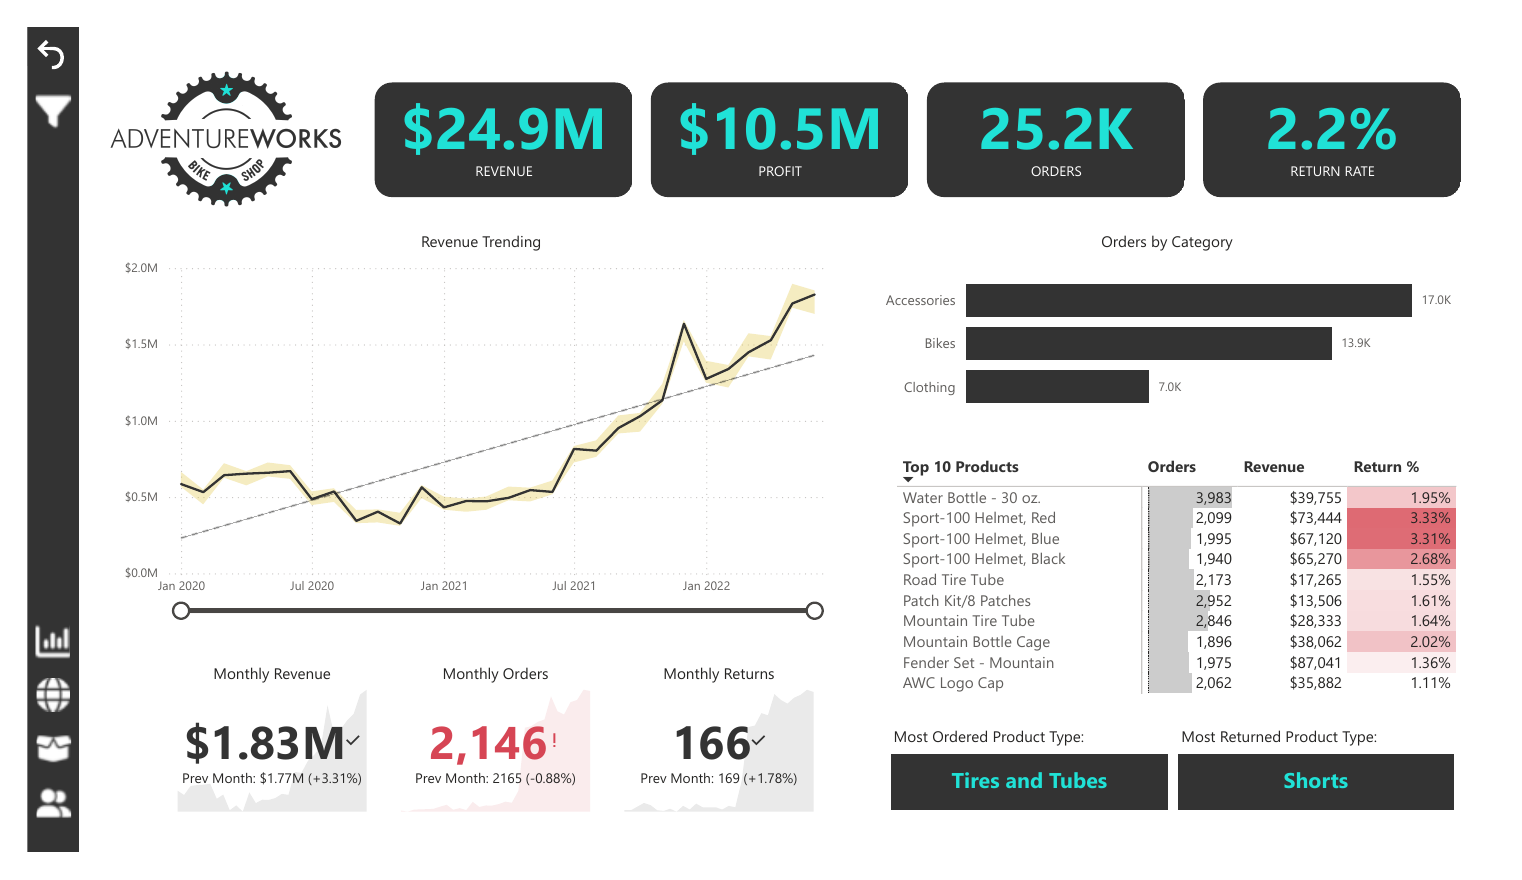

The dashboard page shown, as its layout file describes it:
{"tool":"powerbi","page":{"name":"Exec Dashboard","canvas":[1280,720],"ordinal":0},"visuals":[{"type":"card","fields":{"Values":["Measure Table.Total Revenue"]},"box":[288.1,17.8,256.2,150],"z":0,"group":"g2"},{"type":"image","title":"AW Logo","box":[45.6,26.6,256.2,141.2],"z":0},{"type":"shape","box":[303.1,47.8,225,100],"z":0,"group":"g1"},{"type":"actionButton","box":[2.5,516.7,45.6,37.8],"z":0,"group":"g3"},{"type":"card","fields":{"Values":["Measure Table.Total Profit"]},"box":[528.9,17.8,256.2,150],"z":1000,"group":"g2"},{"type":"shape","box":[543.9,47.8,225,100],"z":1000,"group":"g1"},{"type":"actionButton","box":[3.3,563.4,45.6,37.8],"z":1000,"group":"g3"},{"type":"card","fields":{"Values":["Measure Table.Total Orders"]},"box":[769.8,17.8,256.2,150],"z":2000,"group":"g2"},{"type":"group","id":"g1","title":"KPI Backgrounds","box":[303.1,47.8,947.5,100],"z":2000},{"type":"shape","box":[784.8,47.8,225,100],"z":2000,"group":"g1"},{"type":"actionButton","box":[3.3,611.1,45.6,37.8],"z":2000,"group":"g3"},{"type":"shape","title":"Left Nav Background","box":[0,0,45,720],"z":3000},{"type":"card","fields":{"Values":["Measure Table.Return Rate"]},"box":[1010.6,17.8,256.2,150],"z":3000,"group":"g2"},{"type":"shape","box":[1025.6,47.8,225,100],"z":3000,"group":"g1"},{"type":"actionButton","box":[3.3,657.8,45.6,37.8],"z":3000,"group":"g3"},{"type":"group","id":"g2","title":"KPI Values","box":[288.1,17.8,978.8,150],"z":4000},{"type":"lineChart","title":"Revenue Trending","fields":{"Y":["Measure Table.Total Revenue"],"Category":["Calendar Lookup.Start of Month"]},"box":[78.9,177.7,633.8,342.5],"z":5000},{"type":"kpi","title":"Monthly Revenue","fields":{"Indicator":["Measure Table.Total Revenue"],"TrendLine":["Calendar Lookup.Start of Month"],"Goal":["Measure Table.Previous Month Revenue"]},"box":[126.2,555,175,133.8],"z":6000},{"type":"kpi","title":"Monthly Orders","fields":{"TrendLine":["Calendar Lookup.Start of Month"],"Indicator":["Measure Table.Total Orders"],"Goal":["Measure Table.Previous Month Orders"]},"box":[321.2,555,175,133.8],"z":7000},{"type":"kpi","title":"Monthly Returns","fields":{"TrendLine":["Calendar Lookup.Start of Month"],"Indicator":["Measure Table.Total Returns"],"Goal":["Measure Table.Previous Month Returns"]},"box":[516.2,555,175,133.8],"z":8000},{"type":"clusteredBarChart","title":"Orders by Category","fields":{"Category":["Product Categories Lookup.CategoryName"],"Y":["Measure Table.Total Orders"]},"box":[738.9,177.7,511.2,171.2],"z":9000},{"type":"pivotTable","fields":{"Rows":["Product Lookup.ProductName"],"Values":["Measure Table.Total Orders","Measure Table.Total Revenue","Measure Table.Return Rate"]},"box":[753.7,369.2,511.1,228.4],"z":10000},{"type":"card","fields":{"Values":["Min(Product Subcategories Lookup.SubcategoryName)"]},"box":[753.7,634.2,241.4,48.5],"z":11000},{"type":"textbox","box":[751.3,604.6,198.8,35.5],"z":12000},{"type":"card","fields":{"Values":["Min(Product Subcategories Lookup.SubcategoryName)"]},"box":[1004.1,634.2,241.4,48.5],"z":13000},{"type":"textbox","box":[1002.2,605.2,198.8,35.5],"z":14000},{"type":"actionButton","box":[3.3,5.6,35.6,35.6],"z":15000},{"type":"group","id":"g3","title":"Navigation Buttons","box":[2.5,516.7,46.4,178.9],"z":16000},{"type":"actionButton","box":[3.4,53.1,38.4,39.6],"z":17000}]}

Visuals, with their boxes on the page's 1280x720 design canvas (x1, y1, x2, y2). These are canvas units, not pixel positions in the 1522x880 screenshot, which may show the page scaled, cropped or inside an application window:
card - Measure Table.Total Revenue: region(288, 18, 544, 168)
"AW Logo" image: region(46, 27, 302, 168)
shape: region(303, 48, 528, 148)
actionButton: region(2, 517, 48, 554)
card - Measure Table.Total Profit: region(529, 18, 785, 168)
shape: region(544, 48, 769, 148)
actionButton: region(3, 563, 49, 601)
card - Measure Table.Total Orders: region(770, 18, 1026, 168)
"KPI Backgrounds" group: region(303, 48, 1251, 148)
shape: region(785, 48, 1010, 148)
actionButton: region(3, 611, 49, 649)
"Left Nav Background" shape: region(0, 0, 45, 720)
card - Measure Table.Return Rate: region(1011, 18, 1267, 168)
shape: region(1026, 48, 1251, 148)
actionButton: region(3, 658, 49, 696)
"KPI Values" group: region(288, 18, 1267, 168)
"Revenue Trending" lineChart: region(79, 178, 713, 520)
"Monthly Revenue" kpi: region(126, 555, 301, 689)
"Monthly Orders" kpi: region(321, 555, 496, 689)
"Monthly Returns" kpi: region(516, 555, 691, 689)
"Orders by Category" clusteredBarChart: region(739, 178, 1250, 349)
pivotTable - Product Lookup.ProductName x Measure Table.Total Orders: region(754, 369, 1265, 598)
card - Min(Product Subcategories Lookup.SubcategoryName): region(754, 634, 995, 683)
textbox: region(751, 605, 950, 640)
card - Min(Product Subcategories Lookup.SubcategoryName): region(1004, 634, 1246, 683)
textbox: region(1002, 605, 1201, 641)
actionButton: region(3, 6, 39, 41)
"Navigation Buttons" group: region(2, 517, 49, 696)
actionButton: region(3, 53, 42, 93)
